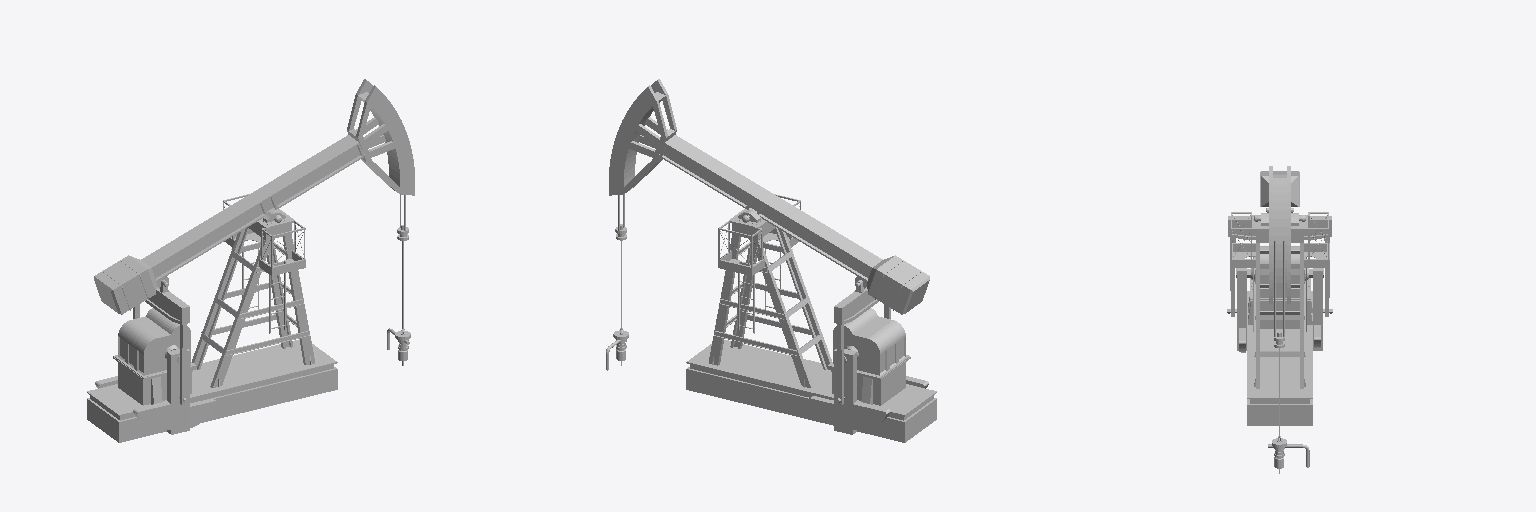
Rendered from OilPumpFinished.obj.
The picture shows the model from 3 angles: view 1: azimuth 30°, elevation 25°; view 2: azimuth 150°, elevation 25°; view 3: azimuth 270°, elevation 25°; orthographic projection.
Parts seen in each view (by area): view 1: Pump; view 2: Pump; view 3: Pump.
Boxes of the visible parts, <box> form: Pump: <box>87,79,414,442</box>; Pump: <box>606,79,936,442</box>; Pump: <box>1227,166,1332,473</box>.
Bounding box in the file's own units: 70.78 × 64.06 × 20.98.